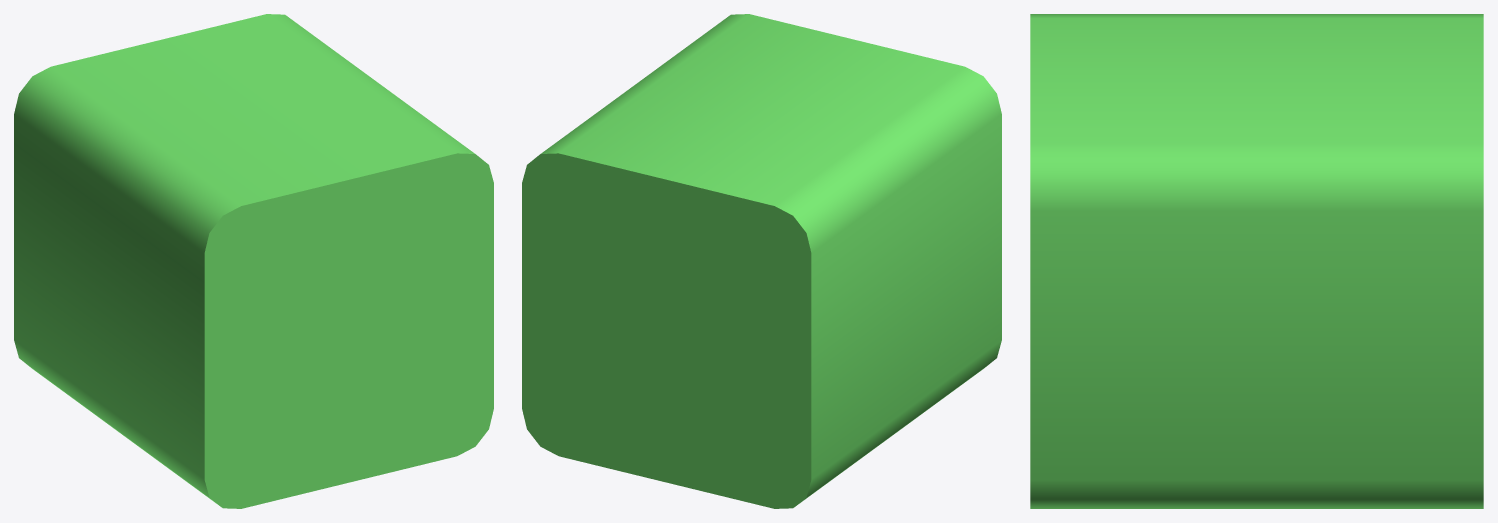
Rendered from cubetfull.fbx.
3 views of the same model, side by side, from view 1: azimuth 30°, elevation 25°; view 2: azimuth 150°, elevation 25°; view 3: azimuth 270°, elevation 25° (orthographic). The views are drawn at different scales.
Visible parts, largest first — view 1: cubefull; view 2: cubefull; view 3: cubefull.
Boxes of the visible parts, x1,y1,x2,y2 form: cubefull: [14, 14, 493, 508]; cubefull: [522, 14, 1001, 508]; cubefull: [1030, 14, 1483, 508].
Bounding box in the file's own units: 95.08 × 95.08 × 108.
